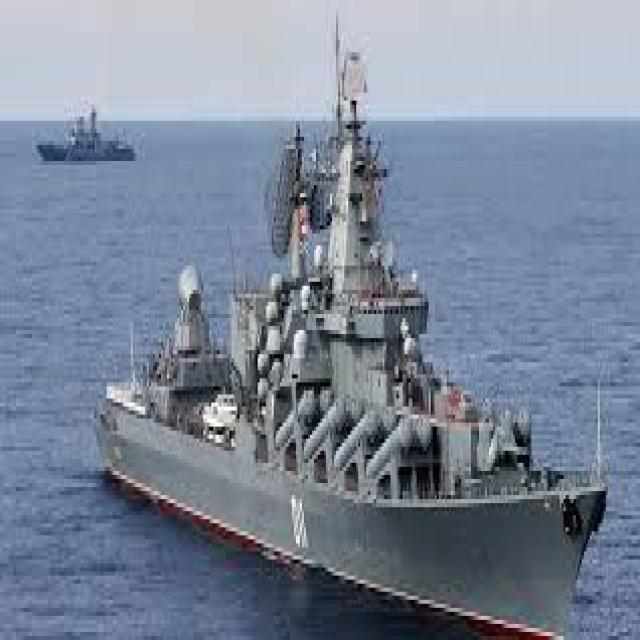navalvessels: (89, 26, 608, 626), (34, 86, 142, 182)
